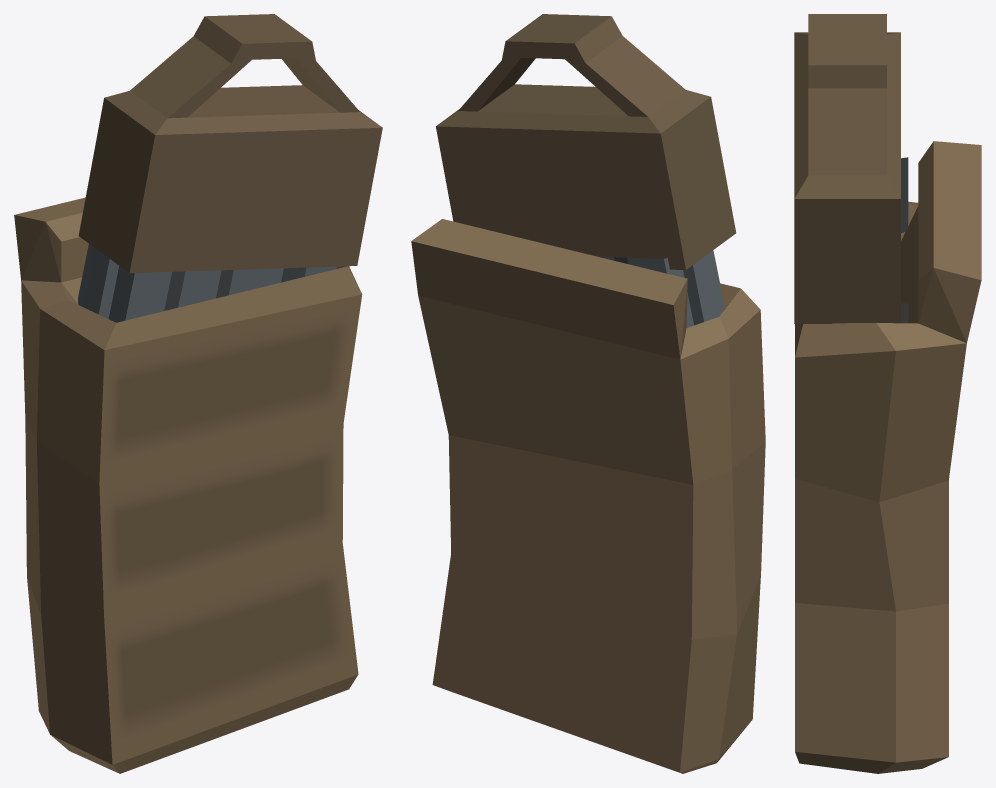
File: SM_Chr_Attach_Pouch_Mag_Single_Handle_01.fbx
3 views of the same model, side by side, from view 1: azimuth 30°, elevation 25°; view 2: azimuth 150°, elevation 25°; view 3: azimuth 270°, elevation 25° (orthographic). The views are drawn at different scales.
Parts seen in each view (by area): view 1: SM_Chr_Attach_Pouch_Mag_Single_Handle_01; view 2: SM_Chr_Attach_Pouch_Mag_Single_Handle_01; view 3: SM_Chr_Attach_Pouch_Mag_Single_Handle_01.
Boxes of the visible parts, box(x1,y1,x2,y2) form: SM_Chr_Attach_Pouch_Mag_Single_Handle_01: box(14, 14, 382, 773); SM_Chr_Attach_Pouch_Mag_Single_Handle_01: box(411, 14, 765, 773); SM_Chr_Attach_Pouch_Mag_Single_Handle_01: box(794, 14, 981, 773).
Bounding box in the file's own units: 11.35 × 25.3 × 5.89.
